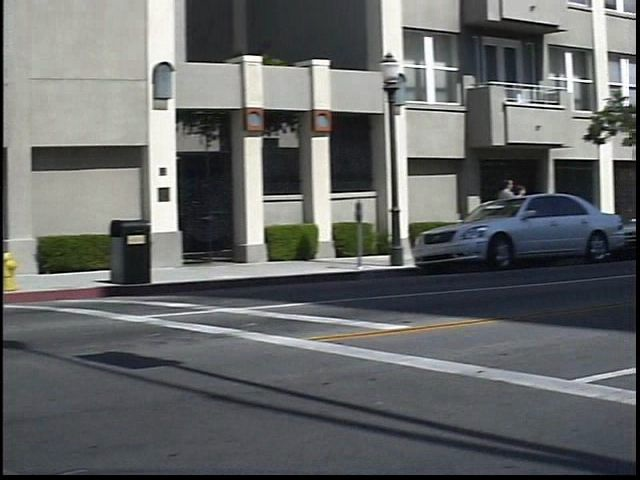person: (506, 173, 530, 248), (524, 181, 545, 243)
